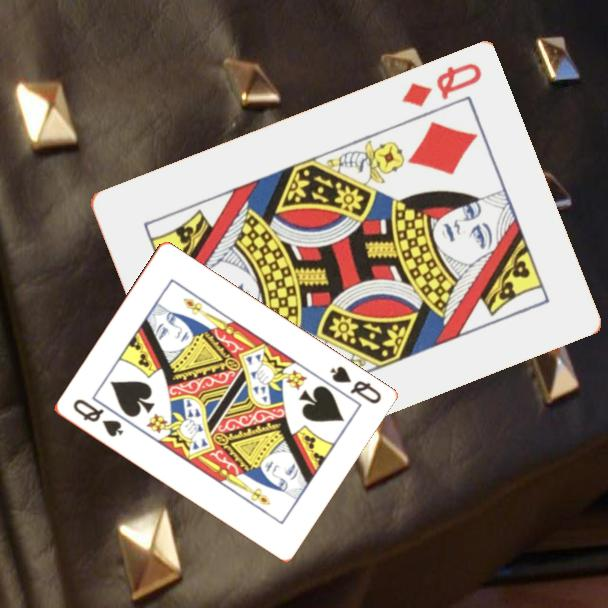d12: (397, 60, 485, 111)
s12: (325, 362, 384, 407), (69, 395, 126, 440)
